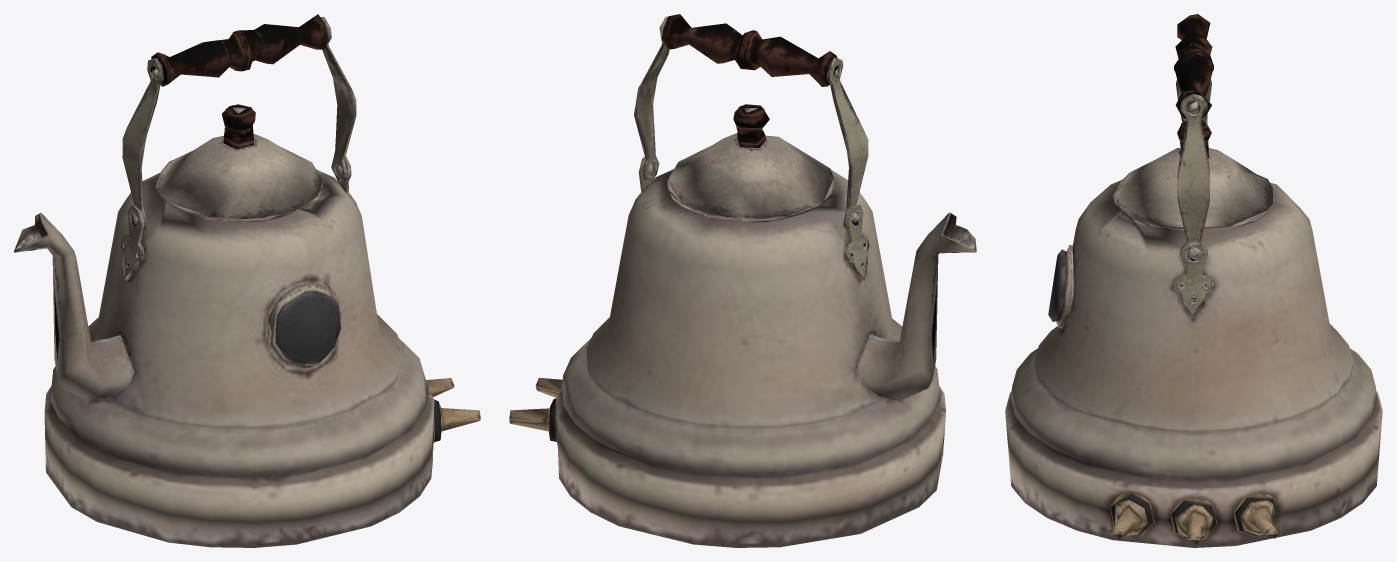
Rendered from vintage_electric_kettle.glb.
The picture shows the model from 3 angles, left to right: view 1: azimuth 30°, elevation 25°; view 2: azimuth 150°, elevation 25°; view 3: azimuth 270°, elevation 25°; orthographic projection. The views are drawn at different scales.
Visible parts, largest first — view 1: vintage_electric_kettle; view 2: vintage_electric_kettle; view 3: vintage_electric_kettle.
Part boxes in pixels (x1,y1,x2,y2): vintage_electric_kettle: [14, 14, 480, 547]; vintage_electric_kettle: [509, 14, 976, 547]; vintage_electric_kettle: [1005, 14, 1382, 547].
Size of the model in its own units: 0.3201 by 0.3035 by 0.2478.
Materials: 2 (2 with a texture image).
